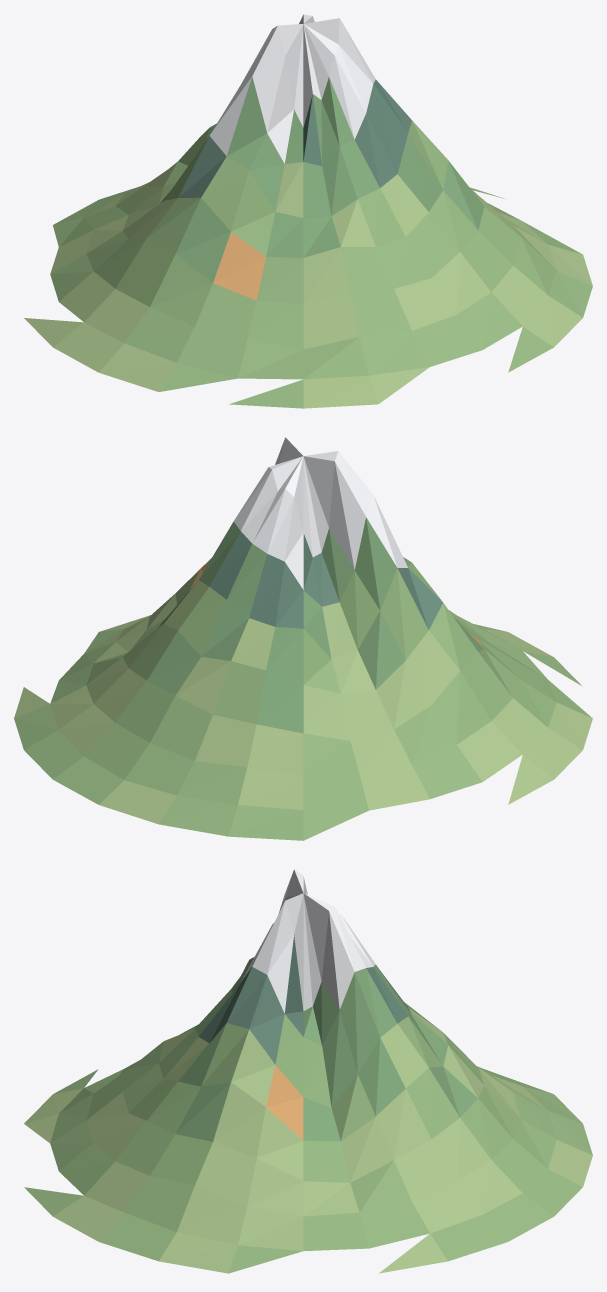
File: bg_mountain_fuji.glb
3 views of the same model, one above another, from view 1: azimuth 30°, elevation 25°; view 2: azimuth 150°, elevation 25°; view 3: azimuth 270°, elevation 25° (orthographic).
Visible parts, largest first — view 1: bg_mountain_fuji; view 2: bg_mountain_fuji; view 3: bg_mountain_fuji.
Boxes of the visible parts, x1,y1,x2,y2 form: bg_mountain_fuji: (24, 14, 592, 408); bg_mountain_fuji: (14, 437, 592, 840); bg_mountain_fuji: (24, 869, 592, 1273).
Bounding box in the file's own units: 520 × 269 × 520.
